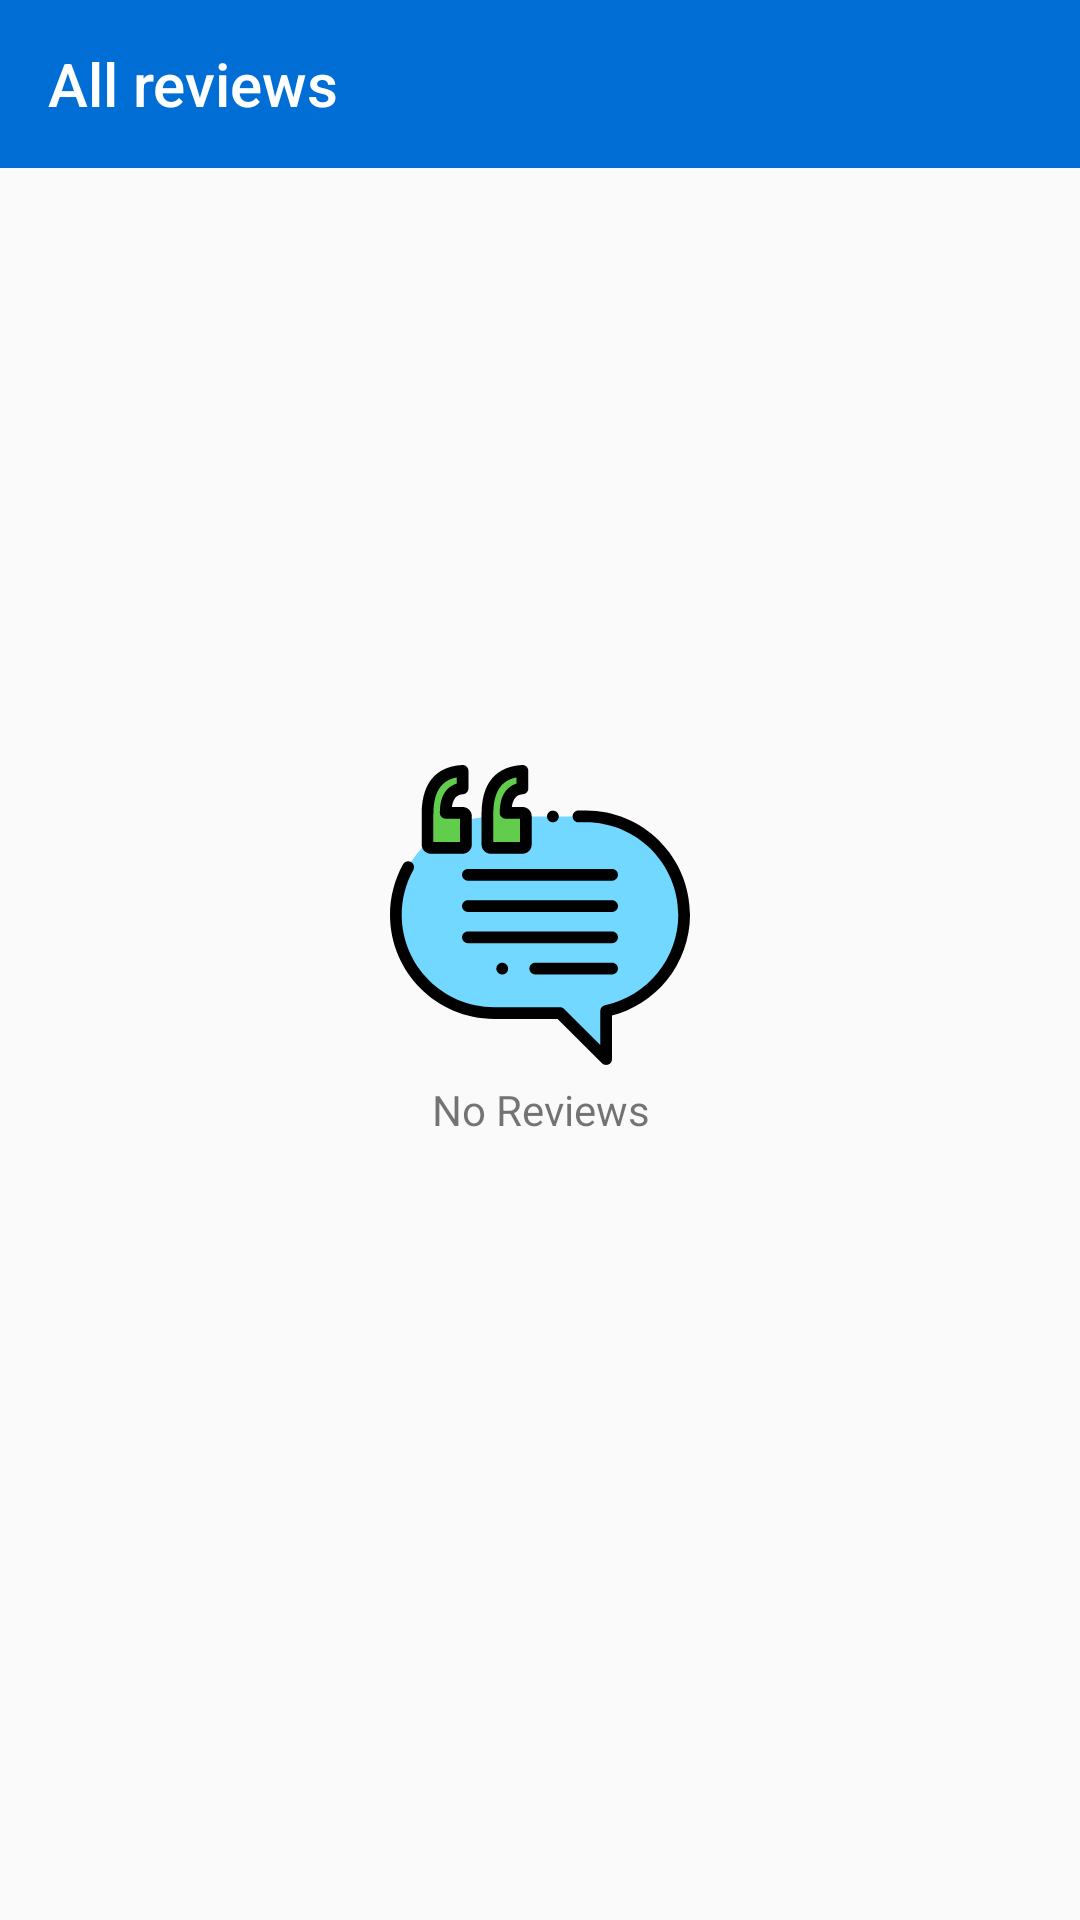

Icons on this 1080x1920 Android screen, each with its box as (x1, y1, x2, y2):
communications: (390, 765, 690, 1065)
